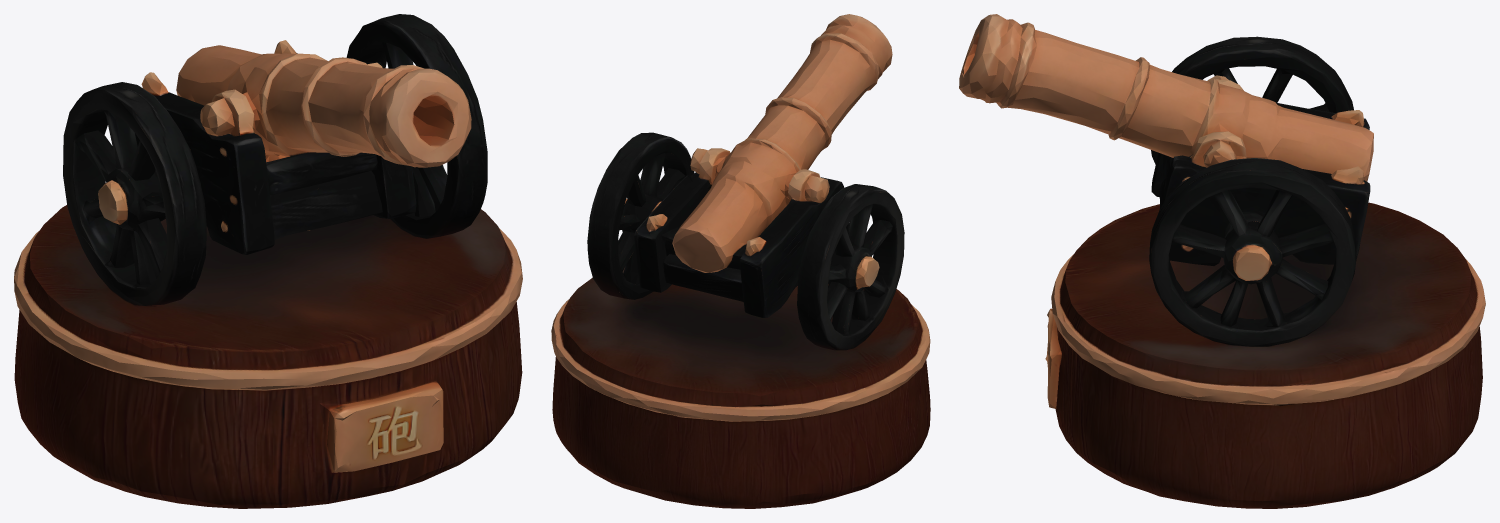
The model's file is cannon_black.glb.
3 views of the same model, side by side, from view 1: azimuth 30°, elevation 25°; view 2: azimuth 150°, elevation 25°; view 3: azimuth 270°, elevation 25° (orthographic). The views are drawn at different scales.
Visible parts, largest first — view 1: Mesh; view 2: Mesh; view 3: Mesh.
Boxes of the visible parts, x1,y1,x2,y2 form: Mesh: [14, 14, 522, 508]; Mesh: [551, 14, 930, 508]; Mesh: [959, 14, 1485, 508].
Size of the model in its own units: 1.64 by 1.6 by 1.89.
1 material, 1 textured.
